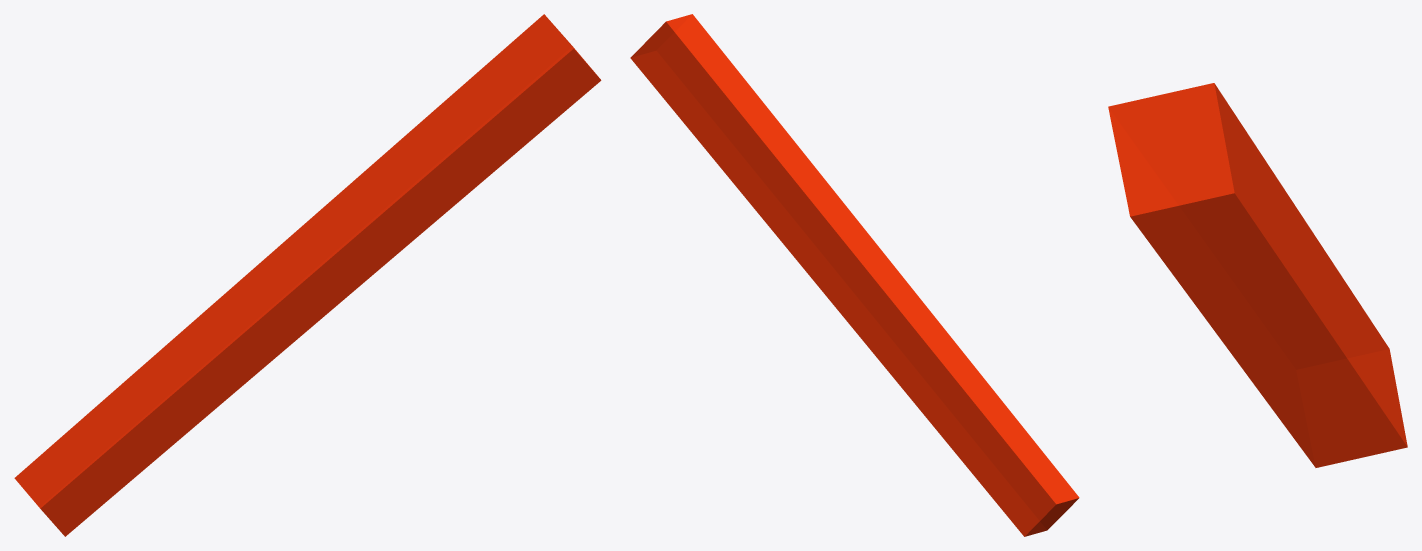
File: Event_421115418_EBrechit_40.fbx
The picture shows the model from 3 angles, left to right: view 1: azimuth 30°, elevation 25°; view 2: azimuth 150°, elevation 25°; view 3: azimuth 270°, elevation 25°; orthographic projection. The views are drawn at different scales.
Parts seen in each view (by area): view 1: Model; view 2: Model; view 3: Model.
Part boxes in pixels (x1=…): Model: x1=14, y1=14, x2=601, y2=536; Model: x1=630, y1=14, x2=1079, y2=536; Model: x1=1108, y1=83, x2=1407, y2=467.
Size of the model in its own units: 0.6263 by 0.5036 by 0.1748.
